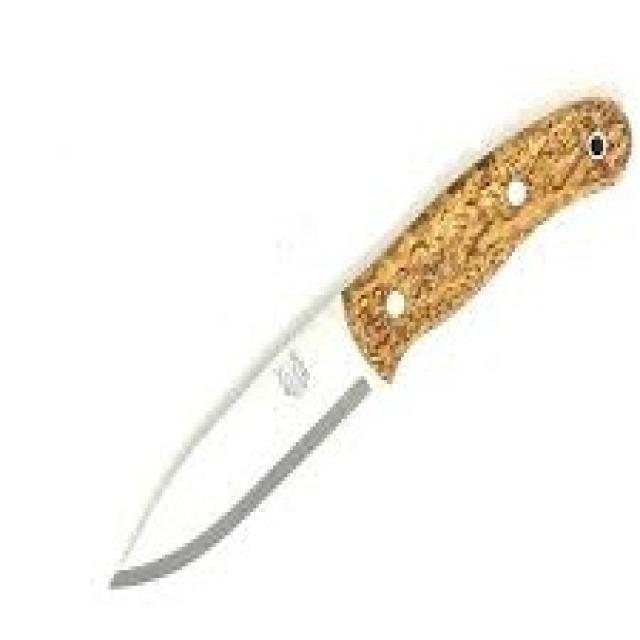knife: (107, 80, 633, 590)
